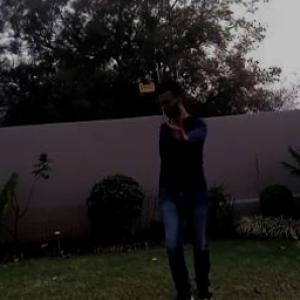takeoff-hand: (162, 108, 192, 145)
